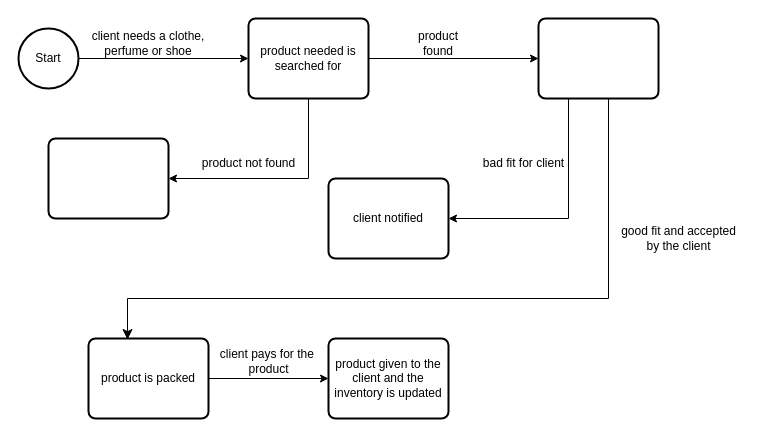
The diagram is 765 pixels wide and 436 high, and some of its shapes have lost their labels. The box of each missing label's shape, as (x1, y1, x2, y2) in pixels:
client fits in the clothe, shoe or tries out the perfume: (537, 17, 659, 99)
client is notified: (47, 137, 169, 219)
